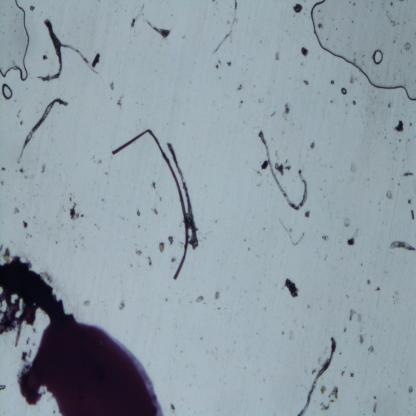Air bubble: (310, 1, 416, 104), (0, 0, 30, 83), (371, 47, 384, 65), (2, 82, 13, 101), (28, 4, 37, 12), (340, 86, 348, 94), (0, 383, 7, 391), (330, 79, 336, 86)
Background material: (68, 199, 85, 222), (282, 277, 300, 298), (273, 157, 292, 175), (346, 228, 362, 248), (327, 383, 340, 401), (319, 399, 335, 412), (401, 166, 415, 180), (393, 119, 406, 133), (407, 206, 416, 225), (299, 45, 311, 59), (291, 2, 303, 16), (371, 393, 379, 414), (89, 153, 103, 165), (347, 306, 356, 324), (281, 102, 292, 116), (347, 160, 358, 174), (116, 93, 126, 108), (91, 52, 101, 67), (157, 239, 167, 254), (401, 40, 411, 54), (117, 299, 127, 312), (260, 159, 270, 171), (214, 57, 223, 70), (347, 71, 356, 84), (342, 217, 352, 228), (12, 205, 21, 217), (366, 345, 376, 355), (195, 294, 205, 304), (168, 403, 177, 414), (356, 310, 363, 324), (166, 235, 174, 247), (357, 333, 365, 345), (319, 383, 327, 395), (320, 233, 330, 242), (387, 188, 393, 202), (288, 330, 295, 342), (308, 141, 316, 151), (406, 385, 414, 395), (213, 290, 221, 300), (152, 206, 160, 216), (82, 298, 92, 306), (134, 207, 142, 217), (274, 50, 280, 63), (317, 21, 324, 32), (150, 180, 157, 191), (301, 80, 310, 88), (40, 164, 46, 176), (21, 220, 28, 230), (109, 81, 115, 92), (236, 84, 244, 92), (225, 60, 233, 68), (134, 249, 143, 256), (237, 98, 243, 108), (387, 99, 392, 111), (349, 371, 356, 379), (365, 278, 372, 286), (339, 368, 346, 376), (42, 54, 49, 62), (148, 256, 153, 267), (18, 167, 24, 176), (0, 166, 7, 173), (180, 32, 186, 40), (324, 251, 329, 259), (171, 256, 176, 264), (0, 180, 5, 188), (343, 325, 347, 333), (375, 286, 381, 291), (338, 351, 343, 355)
Cellulose filter fibre: (40, 19, 102, 86), (258, 130, 308, 213), (165, 143, 199, 250), (16, 98, 68, 165), (298, 336, 338, 415), (210, 0, 240, 56), (277, 218, 305, 247), (142, 18, 171, 38), (131, 1, 148, 26), (388, 240, 416, 254)
Cotton: (110, 128, 190, 281)
Pen: (0, 243, 166, 414)
